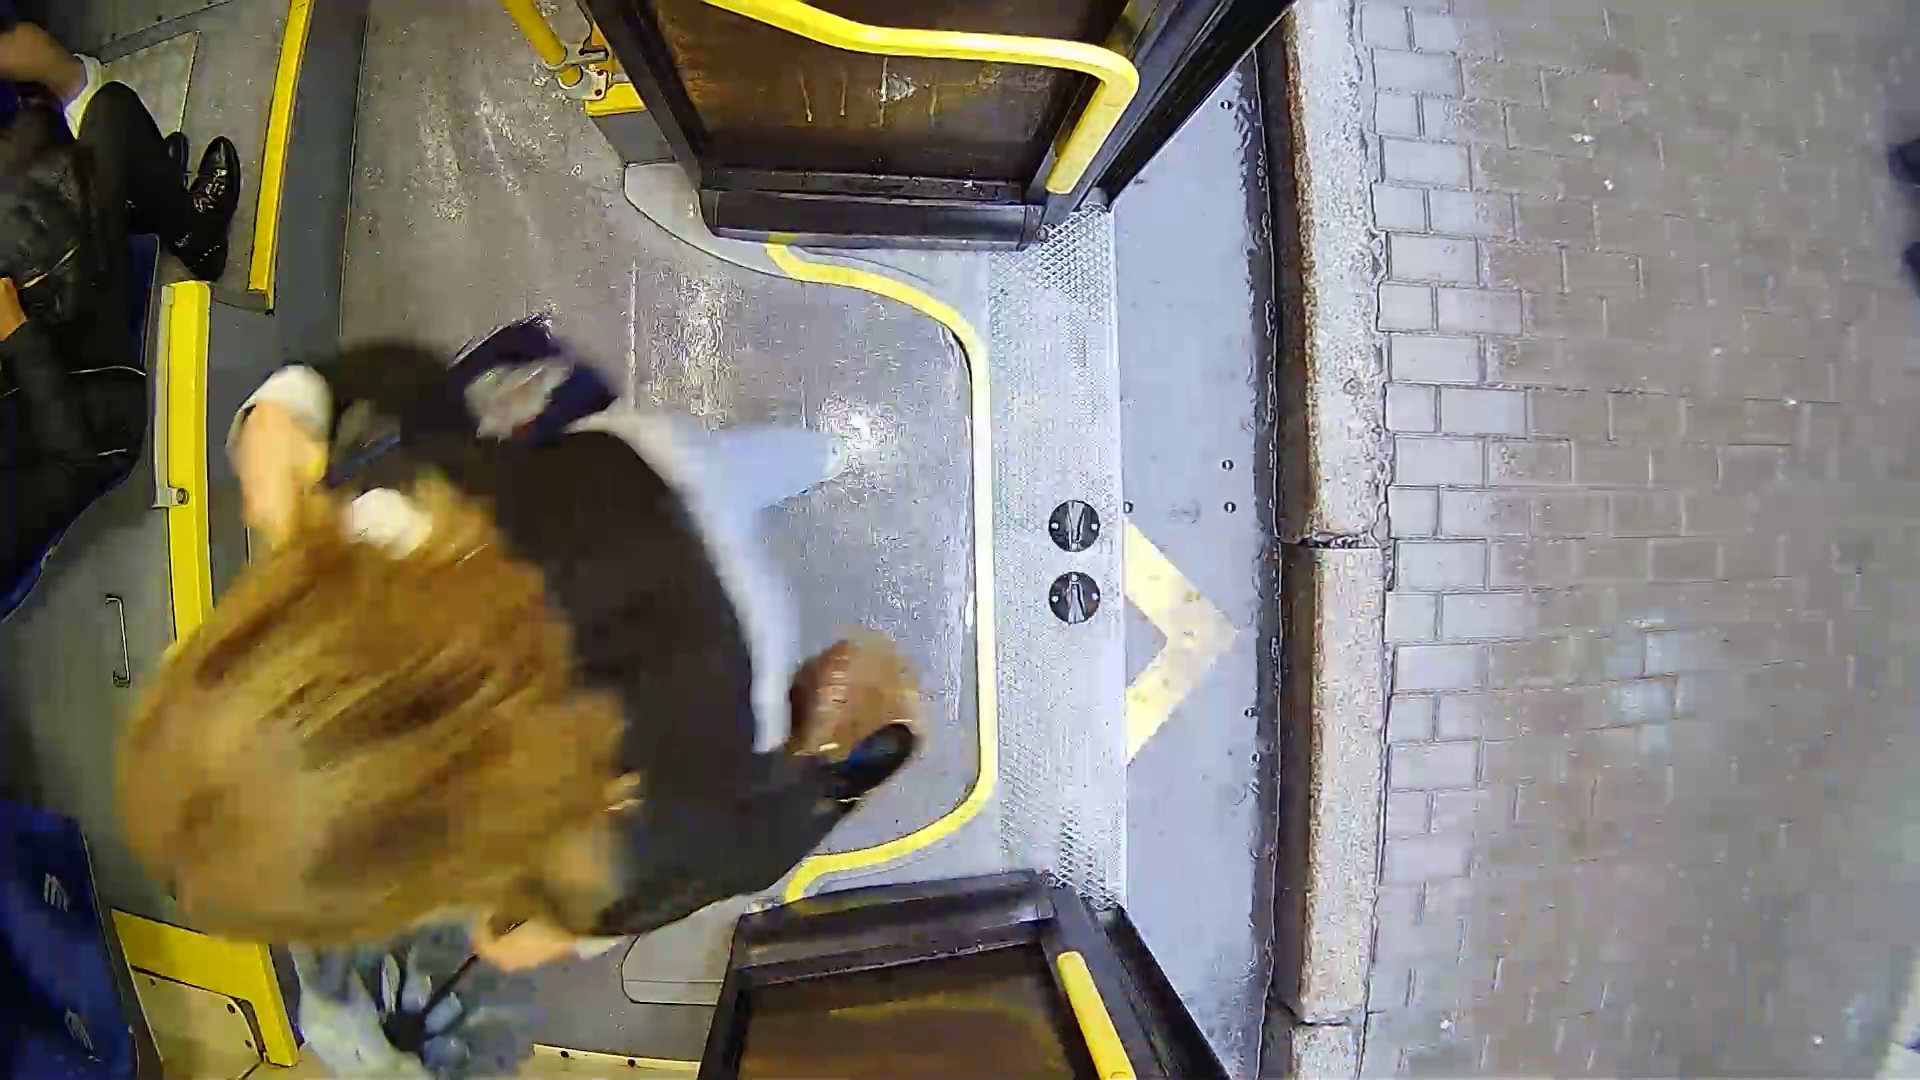person: (111, 333, 1080, 964)
